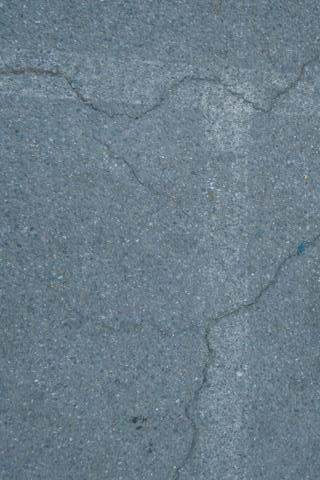A: (169, 230, 317, 478), (1, 54, 319, 123)
